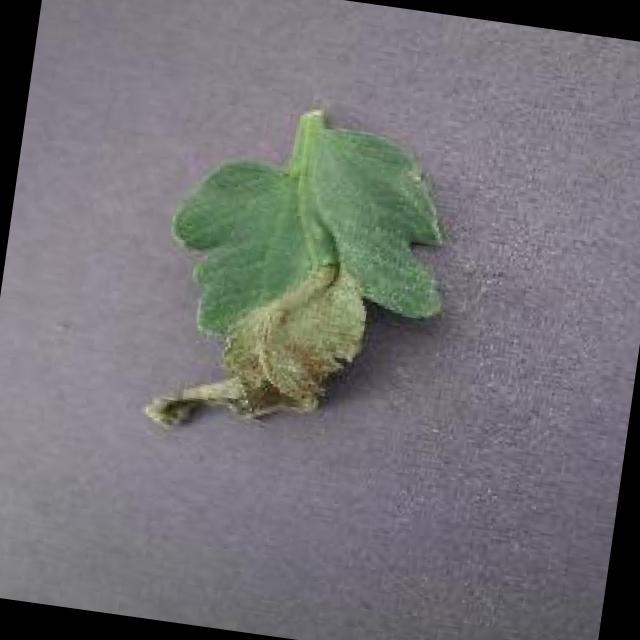Tomato_Late_Blight: (150, 245, 452, 476)
